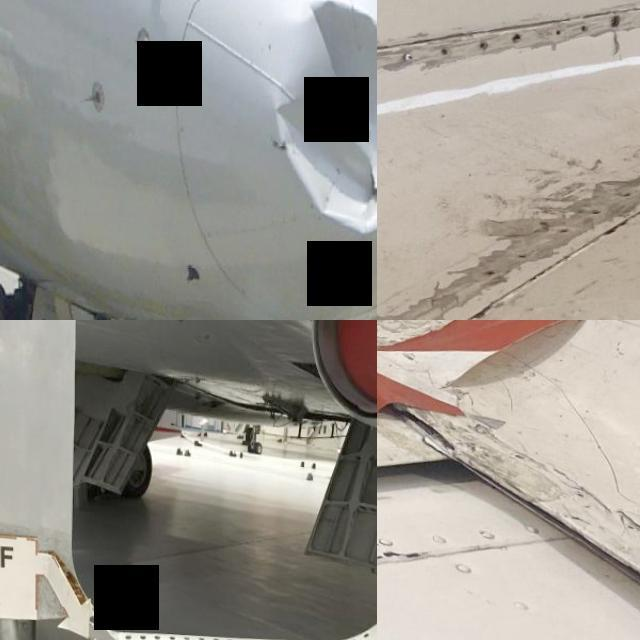Crack: (377, 389, 488, 464), (368, 159, 377, 190)
Dent: (275, 0, 377, 234)
Missing_Fastener: (510, 26, 524, 38), (438, 42, 452, 52), (478, 36, 491, 46), (557, 220, 571, 228), (620, 182, 634, 190), (590, 200, 602, 209)
